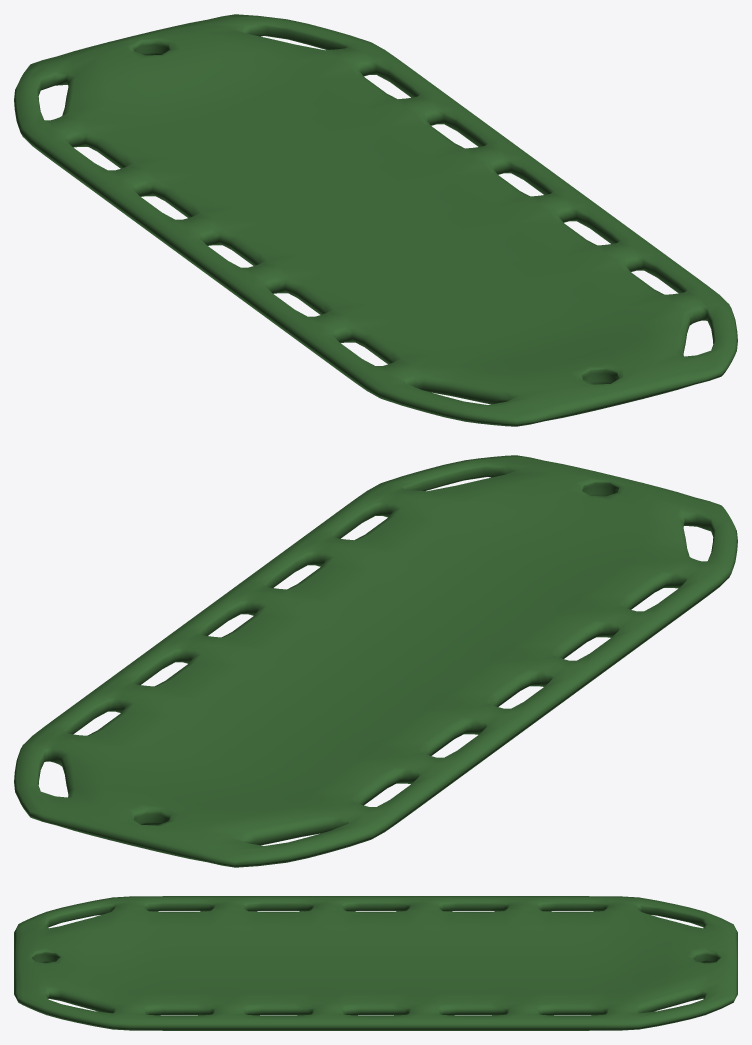
File: camilla_de_rescate.fbx
The picture shows the model from 3 angles, top to bottom: view 1: azimuth 30°, elevation 25°; view 2: azimuth 150°, elevation 25°; view 3: azimuth 270°, elevation 25°; orthographic projection. The views are drawn at different scales.
Visible parts, largest first — view 1: Stretchers_01; view 2: Stretchers_01; view 3: Stretchers_01.
Part boxes in pixels (x1,y1,x2,y2): Stretchers_01: [14, 14, 737, 426]; Stretchers_01: [14, 455, 737, 867]; Stretchers_01: [14, 896, 737, 1030].
Bounding box in the file's own units: 334 × 19.76 × 796.
